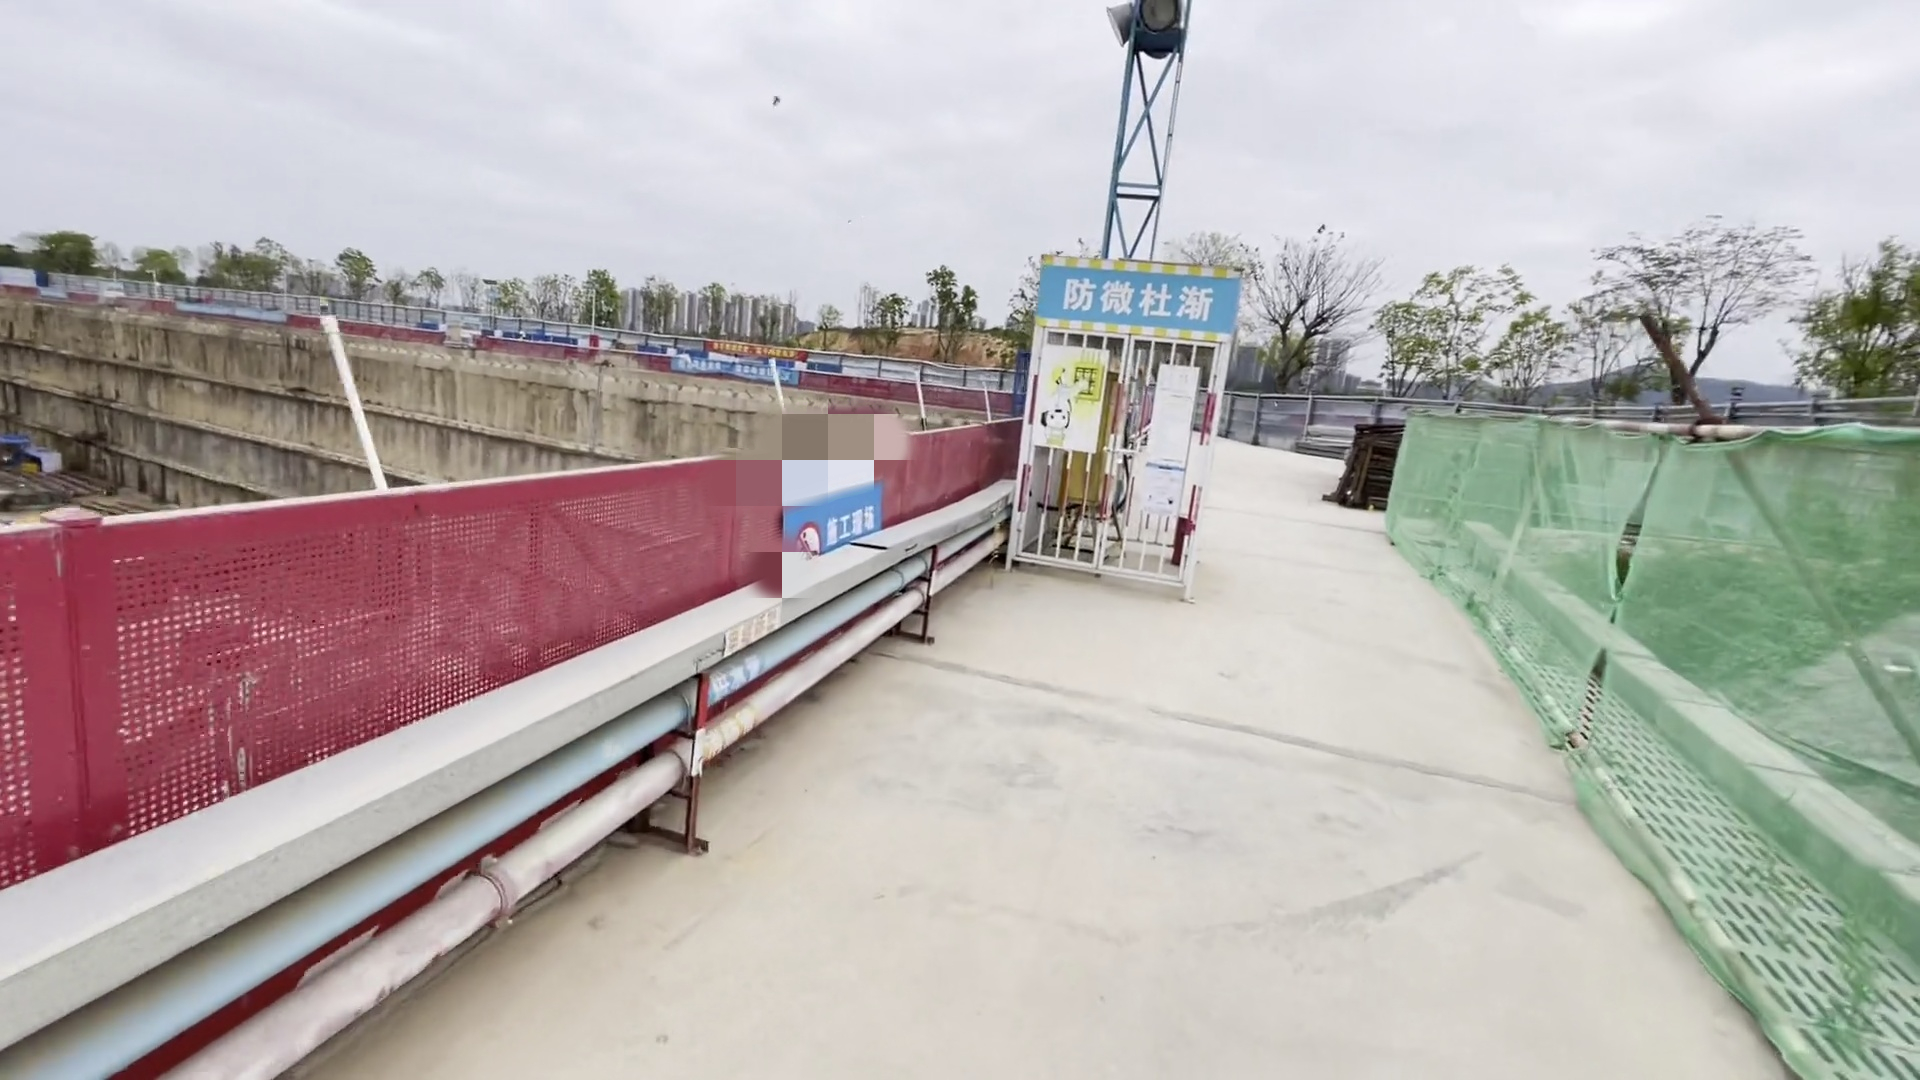fence: (1, 422, 1015, 890)
slogan: (1058, 276, 1222, 326), (688, 338, 800, 386), (804, 498, 895, 541)
